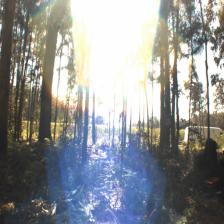trunktrack_idkeyframe: (37, 42, 57, 141), (0, 33, 13, 152), (170, 85, 179, 151), (80, 97, 89, 159), (160, 97, 164, 149), (92, 105, 96, 145)
